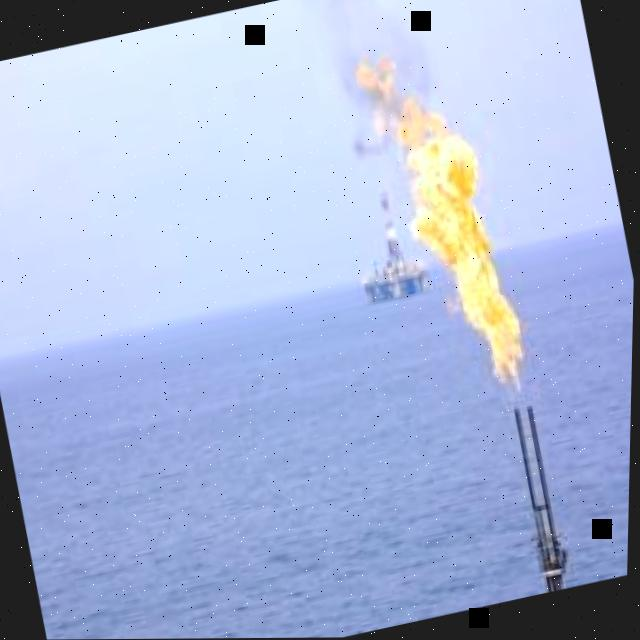fire: (375, 101, 524, 397), (355, 58, 399, 107)
smoke: (322, 17, 430, 161)
